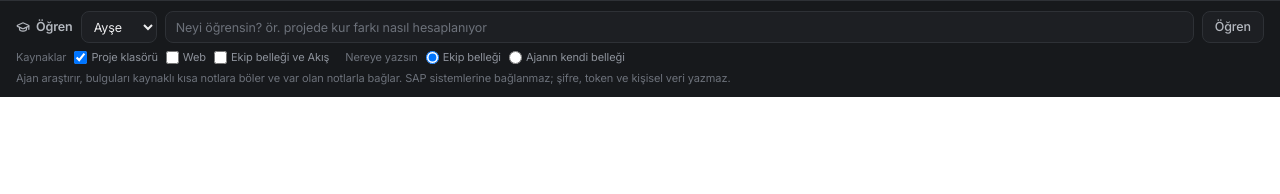
Test: öğrenme görevi durumu › bekleyen görev iptal edilir
Type "Kapanış" into the field named "Öğrenme konusu" at coordinates (679, 27), box [165,11,1194,43]
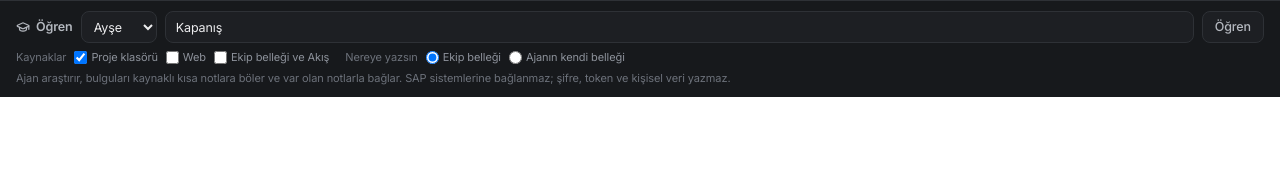
Press Enter in the field named "Öğrenme konusu", box [165,11,1194,43]
Submit the form named "Öğrenme konusu", box [16,11,1264,43]
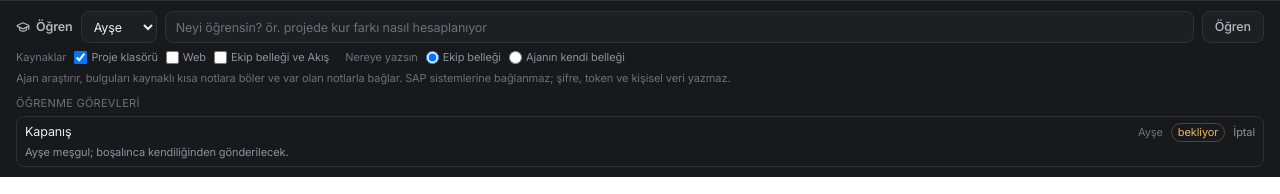
Click the button "İptal" at coordinates (1244, 132), box [1233,124,1255,140]
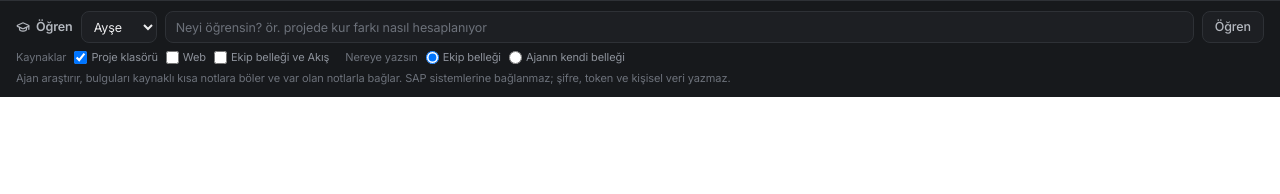
Result: the heading "Öğrenme görevleri" is gone
